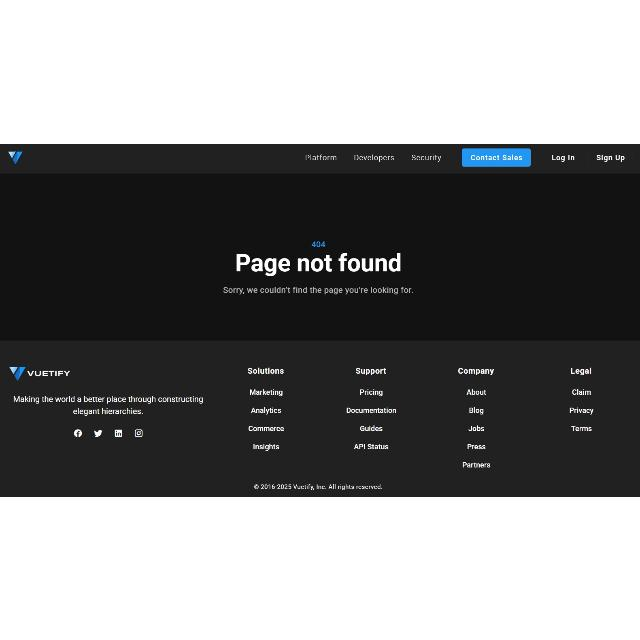QLabel: (235, 250, 402, 276), (11, 395, 205, 403), (222, 286, 414, 294), (254, 482, 382, 490), (73, 407, 144, 415), (469, 153, 523, 161), (246, 366, 286, 374), (354, 153, 394, 161), (347, 406, 398, 412), (248, 424, 286, 432), (595, 152, 625, 162), (458, 367, 494, 375), (248, 387, 284, 395), (354, 366, 388, 374), (411, 153, 441, 161), (252, 442, 282, 450), (462, 460, 492, 468), (354, 443, 390, 449), (359, 387, 385, 395), (569, 406, 595, 414), (550, 153, 576, 161), (304, 154, 338, 160), (250, 406, 284, 412), (359, 424, 385, 431), (570, 366, 592, 374), (468, 406, 486, 414), (570, 425, 594, 431), (466, 388, 488, 394), (468, 424, 486, 431), (572, 388, 592, 394), (467, 443, 487, 449), (311, 240, 325, 246)
VAppBar: (1, 144, 640, 178)
VBtn: (461, 146, 531, 166)
VFooter: (0, 340, 640, 496)
VIcon: (8, 366, 26, 380), (8, 150, 22, 163), (134, 428, 144, 437), (74, 429, 82, 437), (114, 429, 122, 437), (94, 429, 102, 436)
